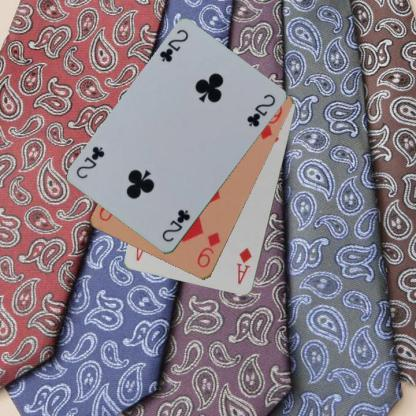2c: (159, 207, 192, 244), (157, 27, 190, 64)
9d: (194, 230, 222, 270)
Ad: (234, 245, 253, 286)
